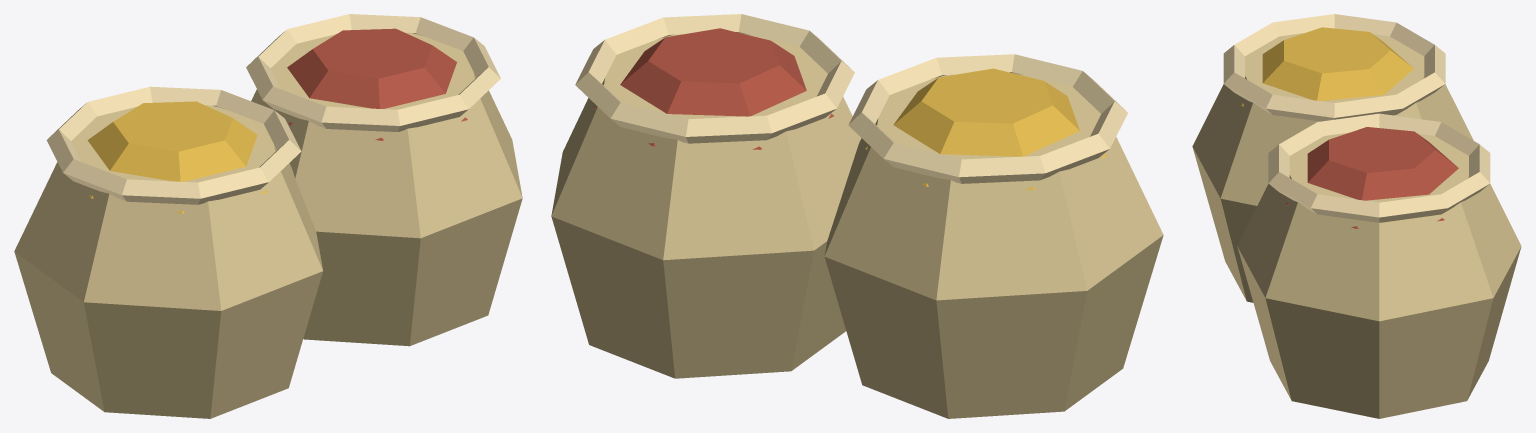
The model's file is res_spices.glb.
The picture shows the model from 3 angles, left to right: view 1: azimuth 30°, elevation 25°; view 2: azimuth 150°, elevation 25°; view 3: azimuth 270°, elevation 25°; orthographic projection. The views are drawn at different scales.
Visible parts, largest first — view 1: res_spices; view 2: res_spices; view 3: res_spices.
Boxes of the visible parts, <box> form: res_spices: <box>14,14,522,418</box>; res_spices: <box>551,14,1163,418</box>; res_spices: <box>1192,14,1521,418</box>.
Bounding box in the file's own units: 0.2286 × 0.109 × 0.1467.
